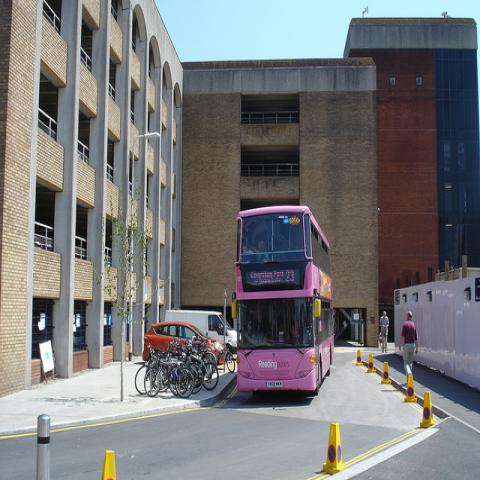bus: (237, 207, 333, 392)
car: (142, 321, 224, 365)
truck: (164, 309, 236, 353)
